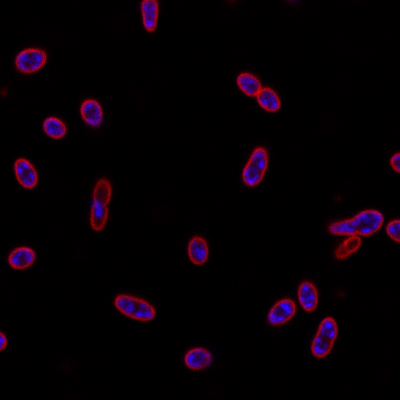Mecillinam: (236, 69, 282, 113), (238, 145, 271, 188), (310, 317, 342, 359), (113, 292, 157, 321), (12, 48, 48, 74), (14, 157, 40, 189), (296, 280, 319, 314), (187, 234, 210, 267), (8, 246, 37, 270), (42, 115, 68, 140)
Oblique: (323, 208, 383, 236), (264, 298, 298, 327), (182, 345, 214, 372), (78, 99, 105, 127)
